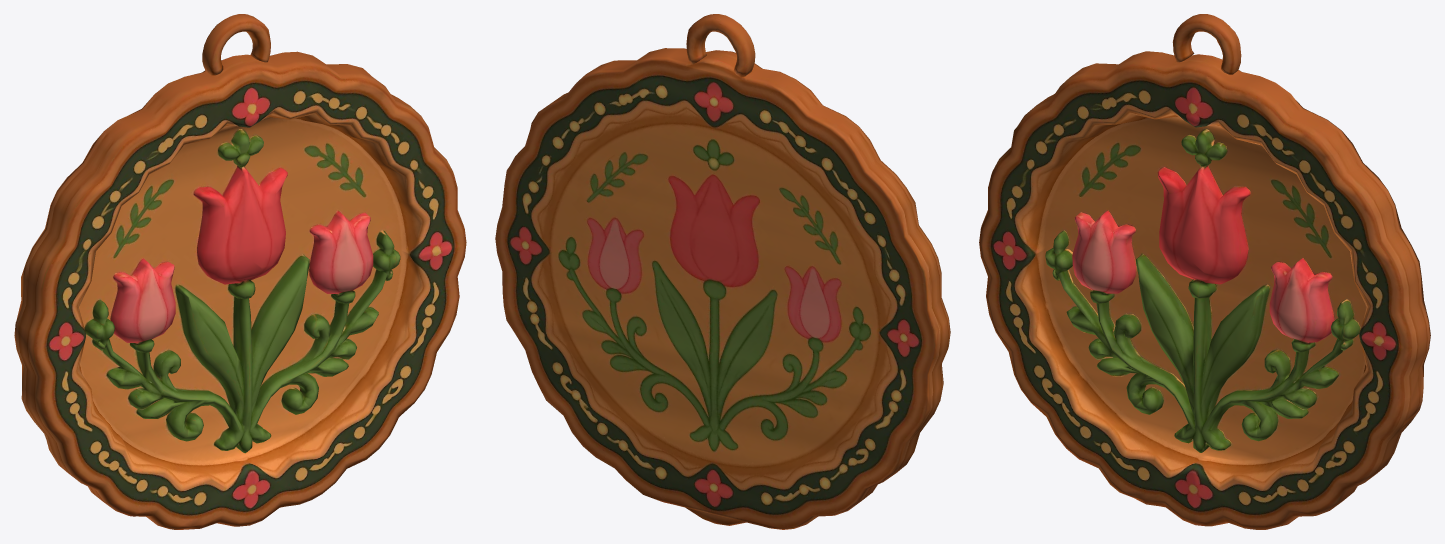
Rendered from tea-copper-tray-wall.glb.
The picture shows the model from 3 angles, left to right: view 1: azimuth 30°, elevation 25°; view 2: azimuth 150°, elevation 25°; view 3: azimuth 330°, elevation 25°; orthographic projection.
Size of the model in its own units: 0.8692 by 0.9512 by 0.0777.
1 material, 1 textured.
